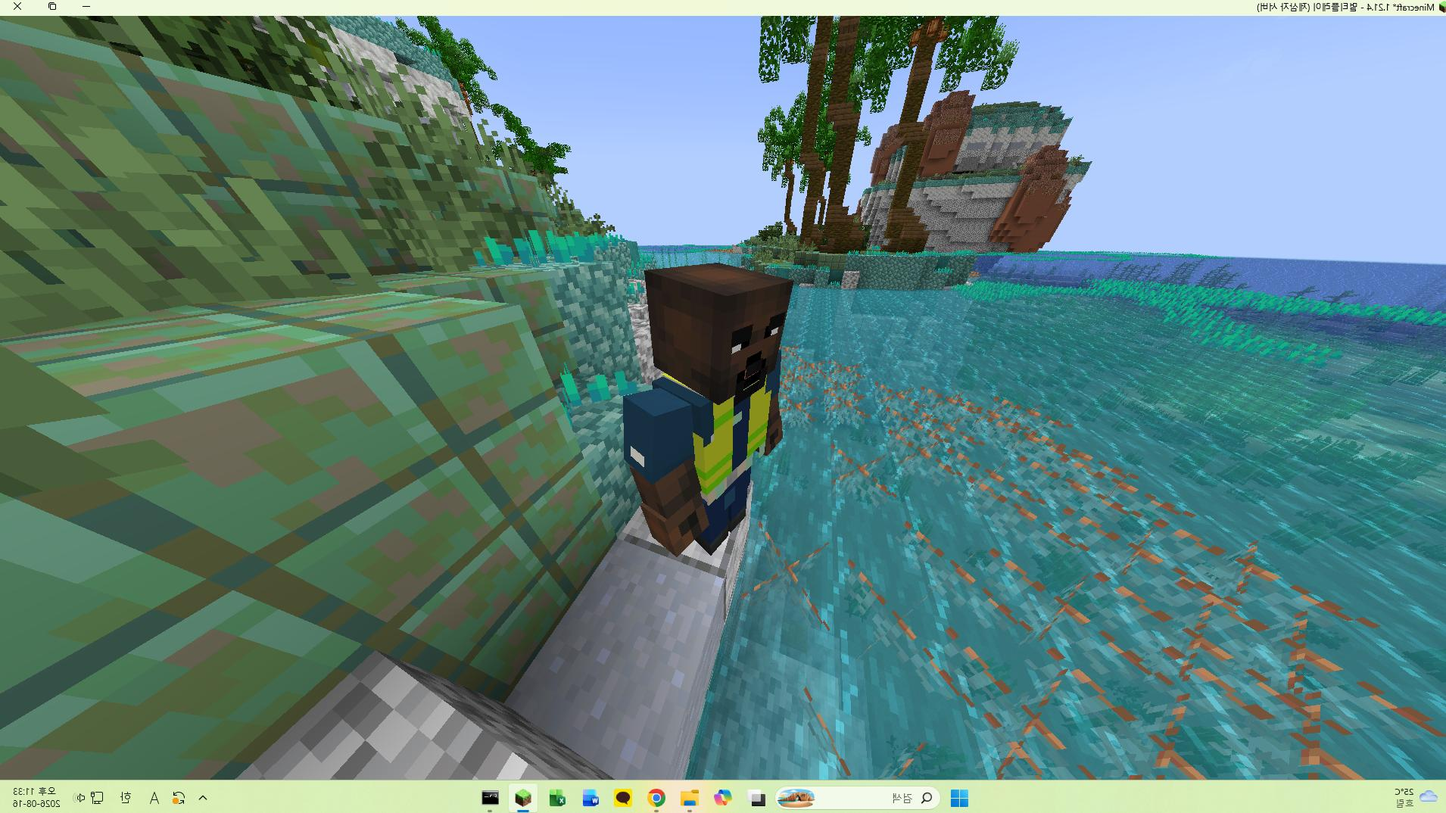Guardian: (625, 263, 791, 554)
